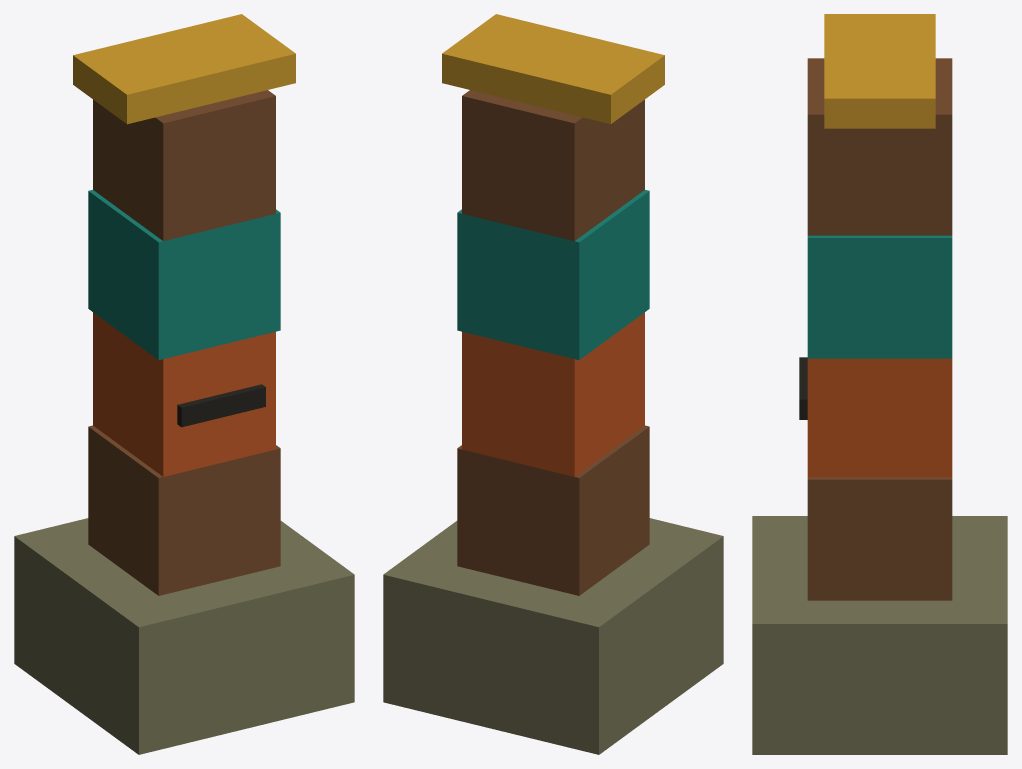
Rendered from wall_t1_post.glb.
3 views of the same model, side by side, from view 1: azimuth 30°, elevation 25°; view 2: azimuth 150°, elevation 25°; view 3: azimuth 270°, elevation 25° (orthographic). The views are drawn at different scales.
Visible parts, largest first — view 1: body; view 2: body; view 3: body.
Part boxes in pixels (x1,y1,x2,y2): body: [14, 14, 354, 754]; body: [383, 14, 723, 754]; body: [752, 14, 1007, 754].
Bounding box in the file's own units: 0.46 × 1.28 × 0.46.
